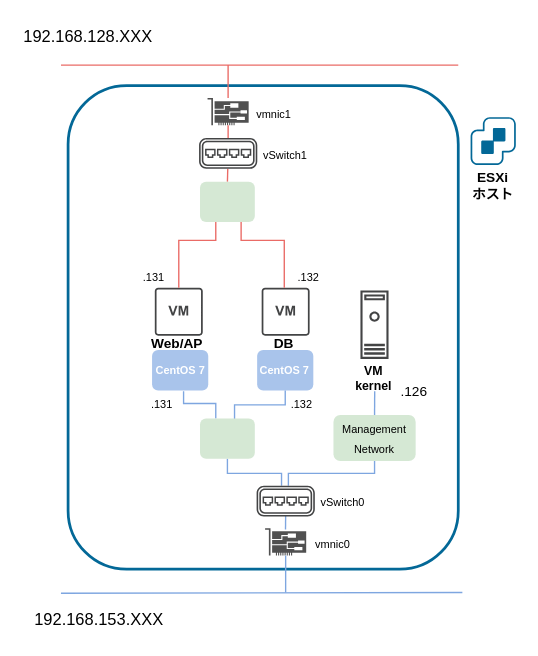
Image size: 538x656. Some labels were removed from this diagram. Each missing label, with the centre of its shape:
"VMM Network" goes at [226,438].
"VMW Network" goes at [226,201].
